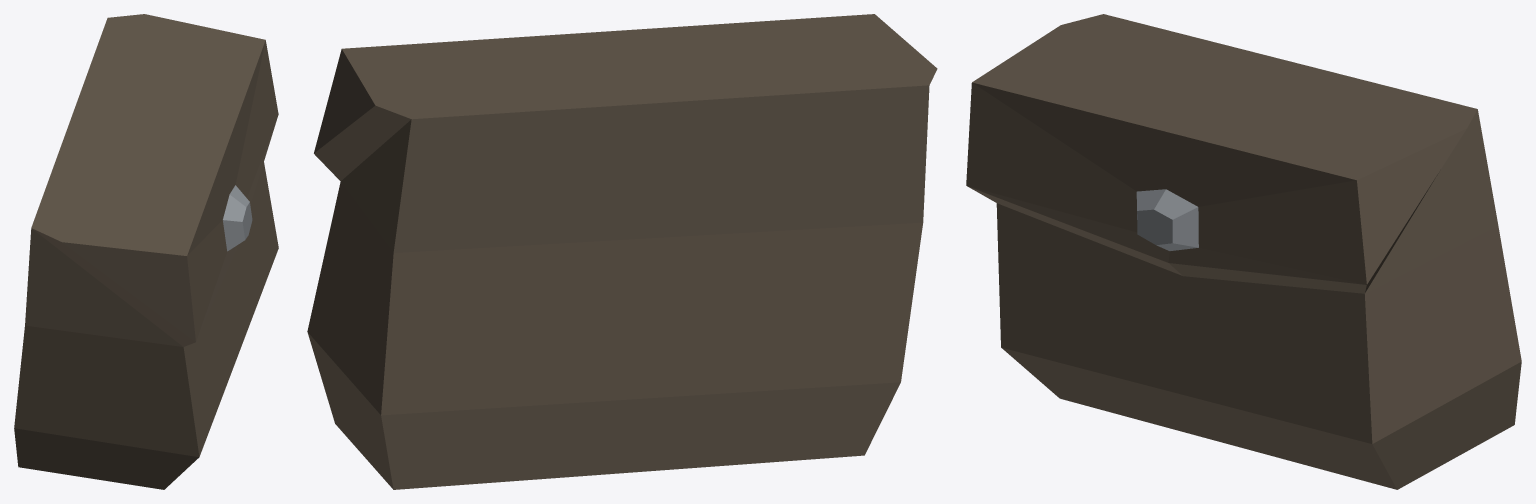
File: Chr_HipsAttachment_11_Static.fbx
3 views of the same model, side by side, from view 1: azimuth 30°, elevation 25°; view 2: azimuth 150°, elevation 25°; view 3: azimuth 270°, elevation 25° (orthographic). The views are drawn at different scales.
Parts seen in each view (by area): view 1: Chr_HipsAttachment_11_Static; view 2: Chr_HipsAttachment_11_Static; view 3: Chr_HipsAttachment_11_Static.
Part boxes in pixels (left/top/right/bottom): Chr_HipsAttachment_11_Static: left=14, top=14, right=278, bottom=489; Chr_HipsAttachment_11_Static: left=307, top=14, right=937, bottom=489; Chr_HipsAttachment_11_Static: left=966, top=14, right=1521, bottom=489.
Size of the model in its own units: 0.1516 by 0.1233 by 0.1727.
